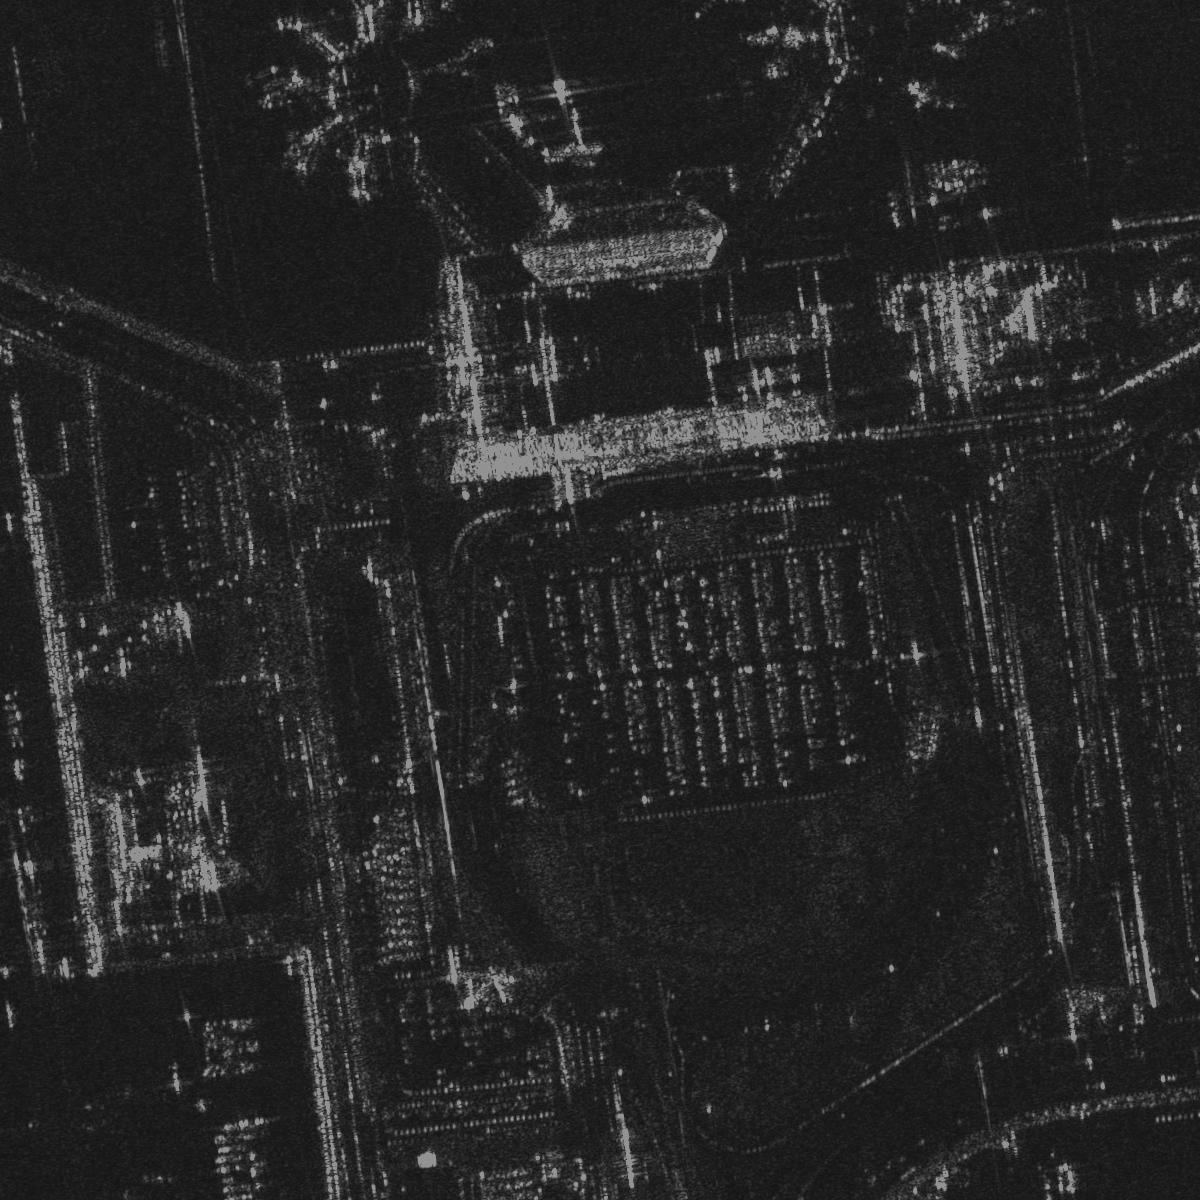A220: (703, 68, 762, 114)
